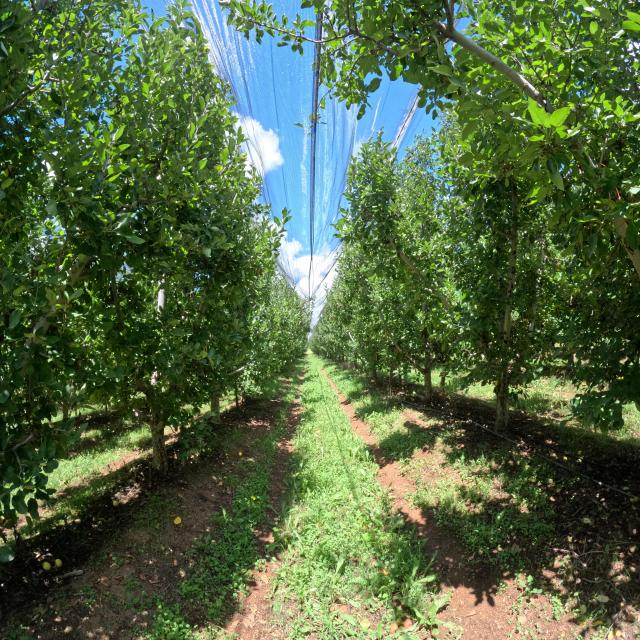-FireBlight-: (252, 266, 264, 276)
